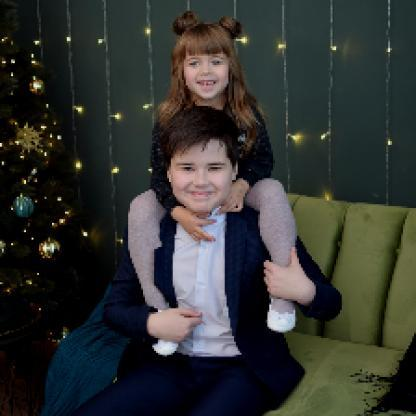child: (126, 10, 299, 358)
